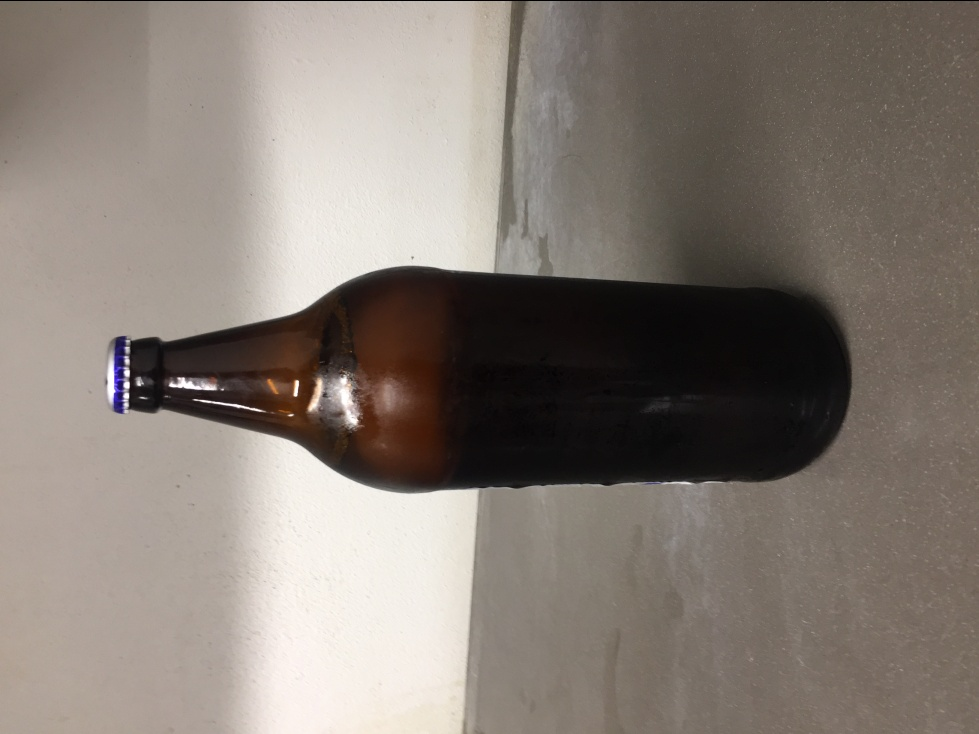tecateC: (95, 261, 851, 490), (100, 261, 849, 485)
